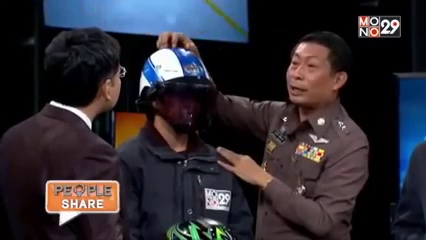helmet: (133, 47, 213, 125)
